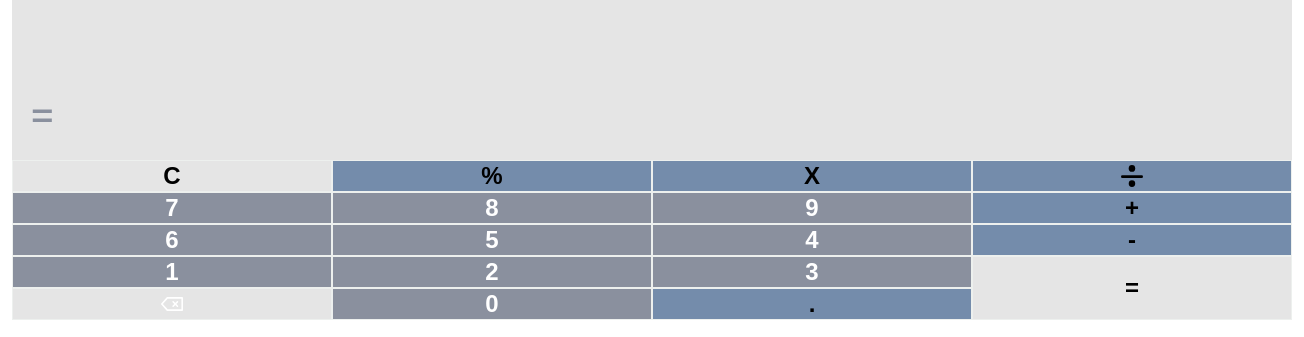
Render SideNav › Buttons should reflect on output
The width and height of the screenshot is (1304, 337).
Click the button "4" at (812, 240), box [652,224,972,256]
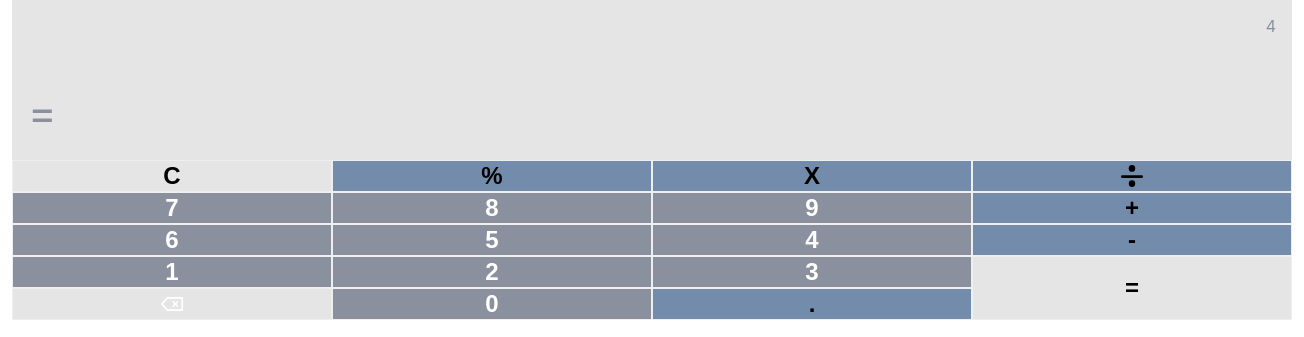
expect the text with test id "current-input" reads "4": met, box [1266,16,1276,36]
